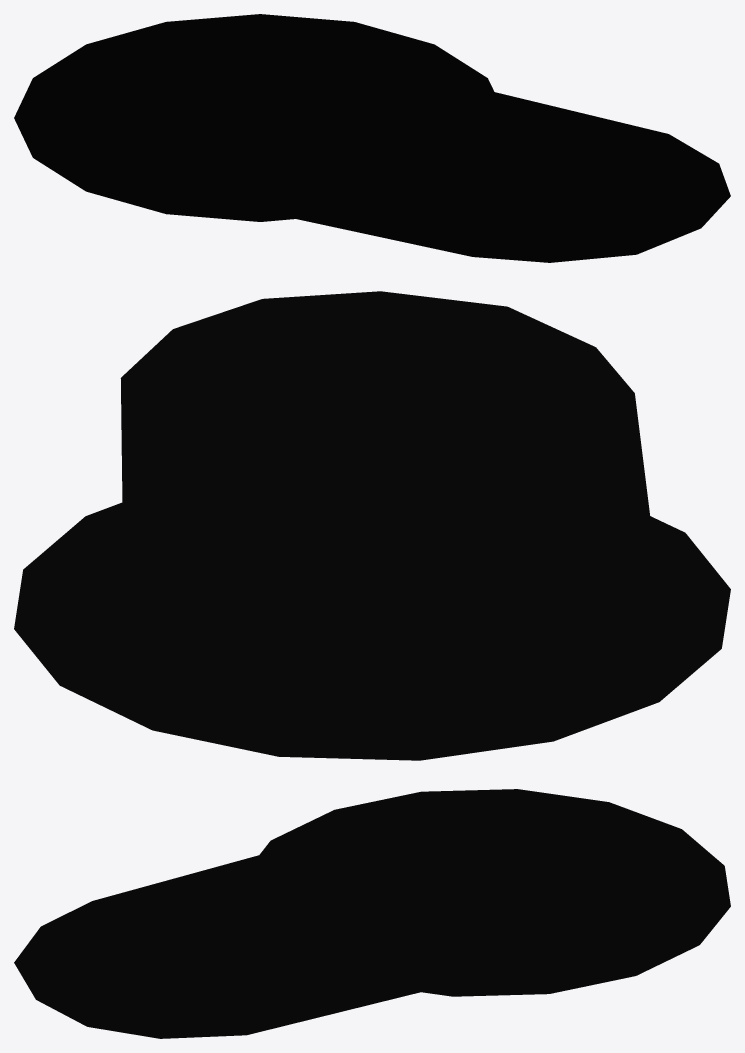
The picture shows the model from 3 angles, top to bottom: view 1: azimuth 30°, elevation 25°; view 2: azimuth 150°, elevation 25°; view 3: azimuth 270°, elevation 25°; orthographic projection. The views are drawn at different scales.
Visible parts, largest first — view 1: Joint_0_Object_0; view 2: Joint_0_Object_0; view 3: Joint_0_Object_0.
Part boxes in pixels (bbox=[...]): Joint_0_Object_0: bbox=[14, 14, 730, 262]; Joint_0_Object_0: bbox=[14, 291, 730, 760]; Joint_0_Object_0: bbox=[14, 789, 730, 1038].
Size of the model in its own units: 400 by 0.0266 by 485.
1 material, 1 textured.
